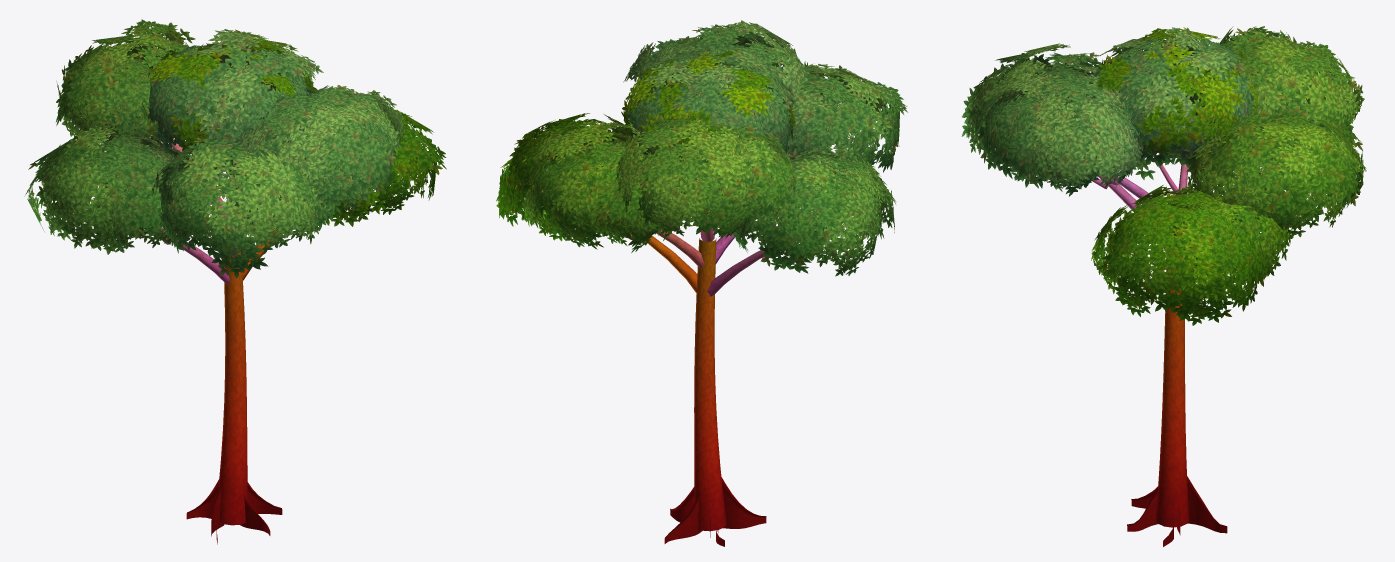
Rendered from tabonuco.glb.
3 renders of one model, left to right at view 1: azimuth 30°, elevation 25°; view 2: azimuth 150°, elevation 25°; view 3: azimuth 270°, elevation 25°, orthographic. The views are drawn at different scales.
Parts seen in each view (by area): view 1: tabonuco; view 2: tabonuco; view 3: tabonuco.
Boxes of the visible parts, left/top/right/bottom form: tabonuco: left=24, top=19, right=446, bottom=544; tabonuco: left=496, top=20, right=907, bottom=546; tabonuco: left=961, top=26, right=1366, bottom=546.
Bounding box in the file's own units: 10.1 × 11.61 × 9.18.
Materials: 2 (2 with a texture image).
